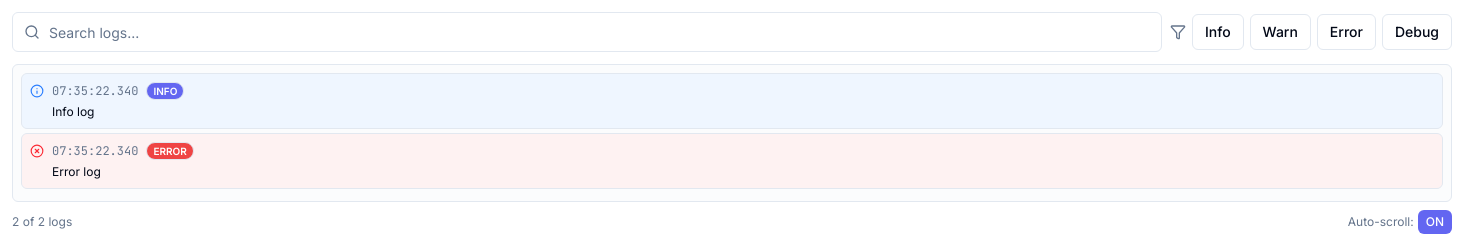
Test case: LogViewer › should toggle level filter on/off
This screenshot has width=1464, height=251.
Note: Enable error filter
Click the button "error": (1346, 32) top-left (1317, 14), bottom-right (1376, 50)
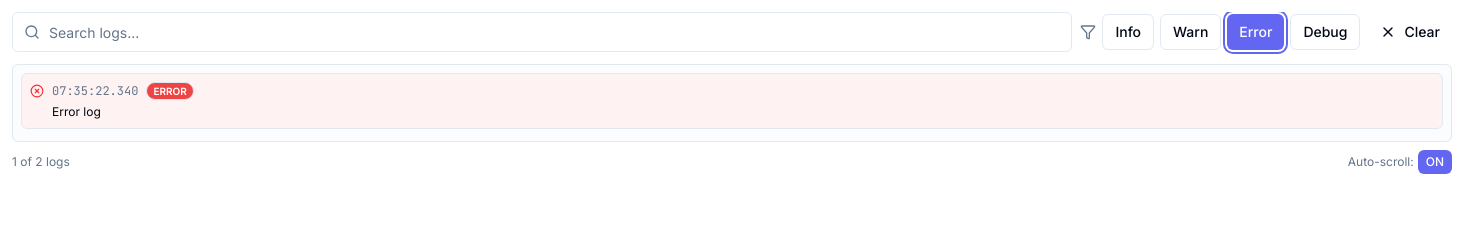
Expected: the text "Info log" is gone
Note: Disable error filter
Click the button "error": (1256, 32) top-left (1227, 14), bottom-right (1284, 50)
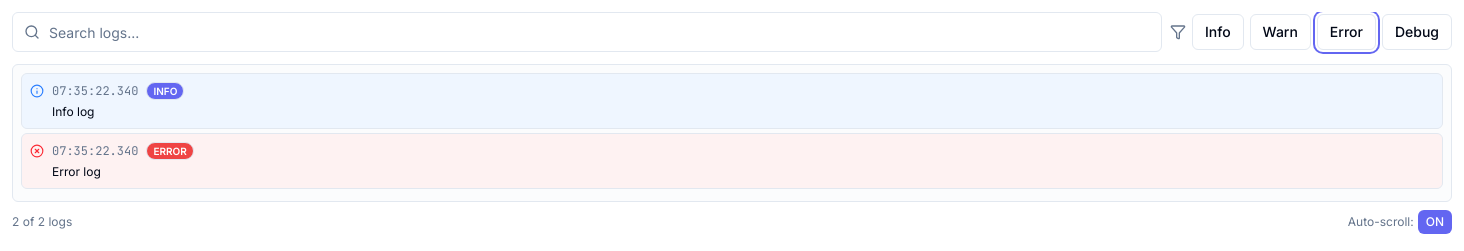
Expected: the text "Info log" is shown, top-left (52, 104), bottom-right (94, 119)
